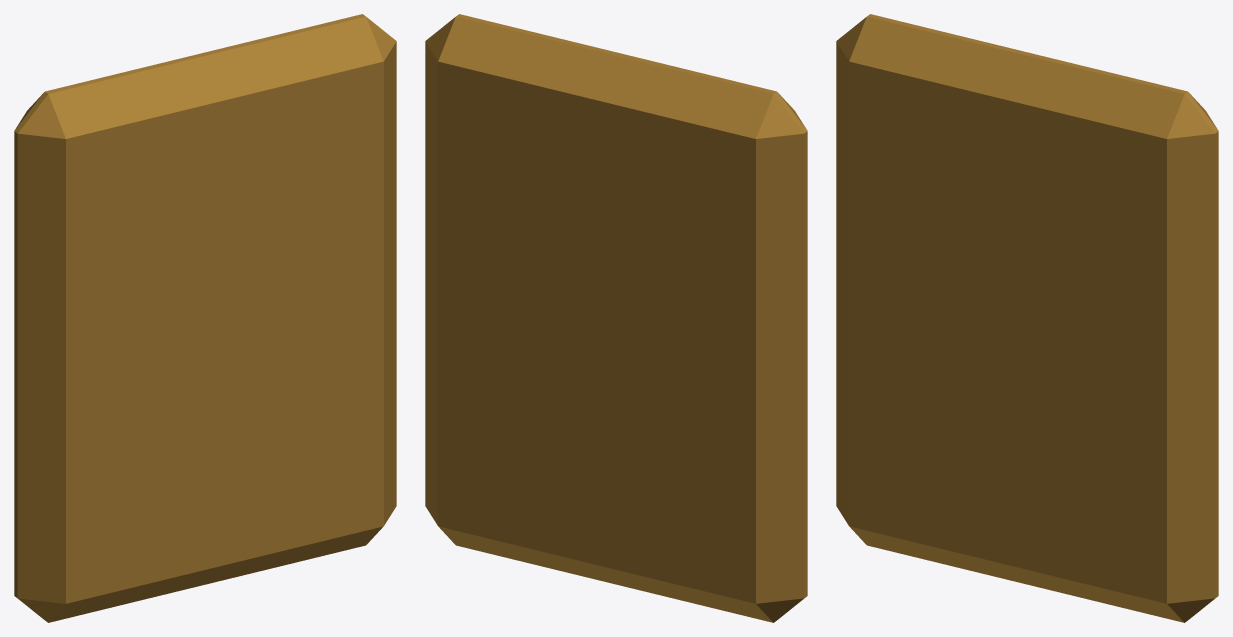
The model's file is Chest_Latch.fbx.
3 renders of one model, left to right at view 1: azimuth 30°, elevation 25°; view 2: azimuth 150°, elevation 25°; view 3: azimuth 330°, elevation 25°, orthographic.
Parts seen in each view (by area): view 1: WeaponChestLatch.001; view 2: WeaponChestLatch.001; view 3: WeaponChestLatch.001.
Boxes of the visible parts, left/top/right/bottom form: WeaponChestLatch.001: left=14, top=14, right=396, bottom=622; WeaponChestLatch.001: left=425, top=14, right=807, bottom=622; WeaponChestLatch.001: left=836, top=14, right=1218, bottom=622.
Size of the model in its own units: 0.09 by 0.016 by 0.12.
